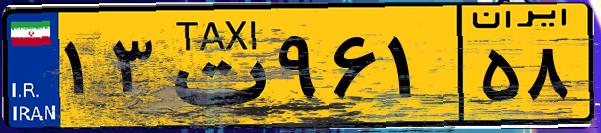1: (385, 28, 445, 110), (57, 26, 110, 100)
3: (110, 28, 158, 98)
5: (475, 38, 525, 113)
6: (330, 28, 385, 110)
8: (525, 38, 570, 115)
9: (270, 28, 330, 110)
ت: (158, 12, 270, 120)
